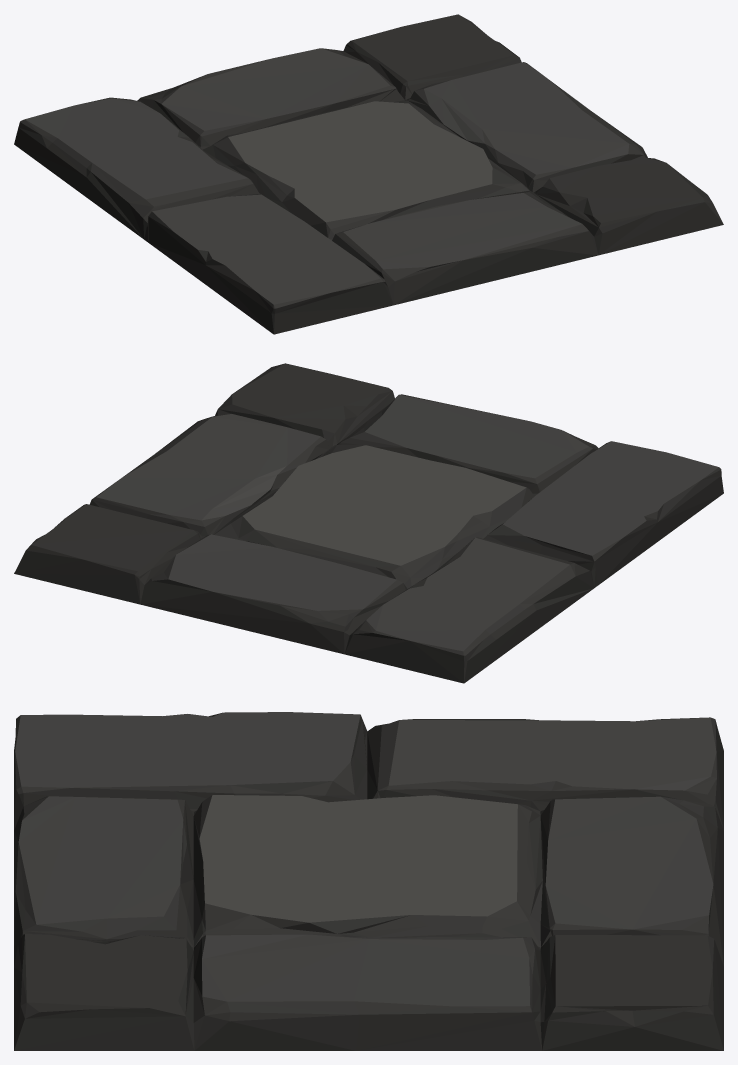
File: SM_Bld_Floor_Tile_01.fbx
3 renders of one model, top to bottom at view 1: azimuth 30°, elevation 25°; view 2: azimuth 150°, elevation 25°; view 3: azimuth 270°, elevation 25°, orthographic. The views are drawn at different scales.
Parts seen in each view (by area): view 1: SM_Bld_Floor_Tile_01; view 2: SM_Bld_Floor_Tile_01; view 3: SM_Bld_Floor_Tile_01.
Boxes of the visible parts, x1,y1,x2,y2 form: SM_Bld_Floor_Tile_01: (14, 14, 723, 334); SM_Bld_Floor_Tile_01: (14, 363, 723, 683); SM_Bld_Floor_Tile_01: (14, 712, 723, 1050).
Bounding box in the file's own units: 251 × 15.48 × 250.
1 material, 1 textured.
